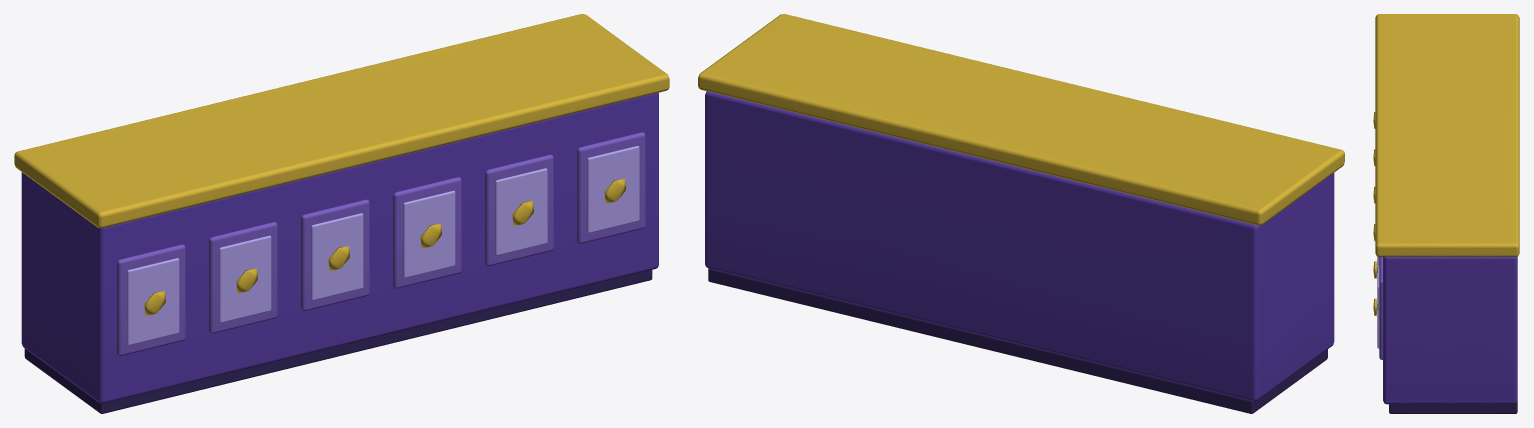
File: furn_counter_prize.glb
The picture shows the model from 3 angles, left to right: view 1: azimuth 30°, elevation 25°; view 2: azimuth 150°, elevation 25°; view 3: azimuth 270°, elevation 25°; orthographic projection. The views are drawn at different scales.
Parts seen in each view (by area): view 1: furn_counter_prize_main, furn_counter_prize_gloss; view 2: furn_counter_prize_main; view 3: furn_counter_prize_main, furn_counter_prize_gloss.
Part boxes in pixels (bbox=[...]): furn_counter_prize_main: bbox=[14, 14, 669, 413]; furn_counter_prize_gloss: bbox=[127, 146, 639, 345]; furn_counter_prize_main: bbox=[698, 14, 1344, 413]; furn_counter_prize_main: bbox=[1373, 14, 1519, 413]; furn_counter_prize_gloss: bbox=[1377, 256, 1379, 348].
Bounding box in the file's own units: 2.86 × 1 × 0.7602.
